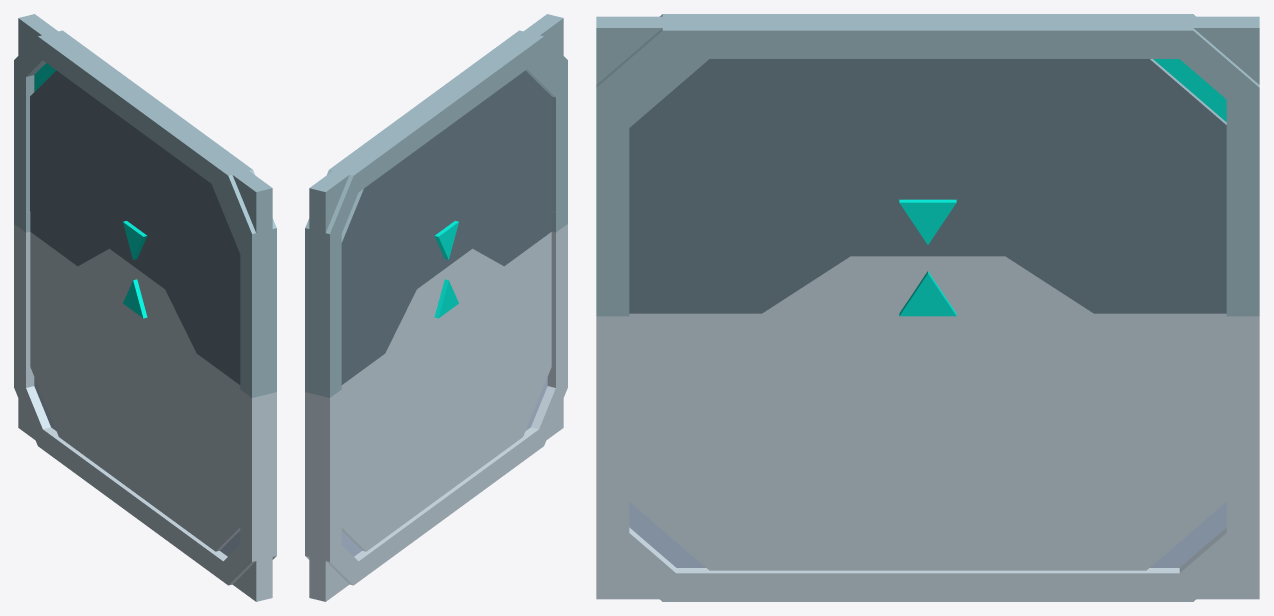
Rendered from door-03.fbx.
The picture shows the model from 3 angles, left to right: view 1: azimuth 30°, elevation 25°; view 2: azimuth 150°, elevation 25°; view 3: azimuth 270°, elevation 25°; orthographic projection. The views are drawn at different scales.
Parts seen in each view (by area): view 1: door-03-bottom, door-03-top; view 2: door-03-bottom, door-03-top; view 3: door-03-bottom, door-03-top.
Part boxes in pixels (x1,y1,x2,y2): door-03-bottom: (14,224,276,601); door-03-top: (14,14,276,397); door-03-bottom: (305,224,567,601); door-03-top: (305,14,567,397); door-03-bottom: (596,256,1259,601); door-03-top: (596,14,1259,316).
Size of the model in its own units: 6 by 95 by 100.
